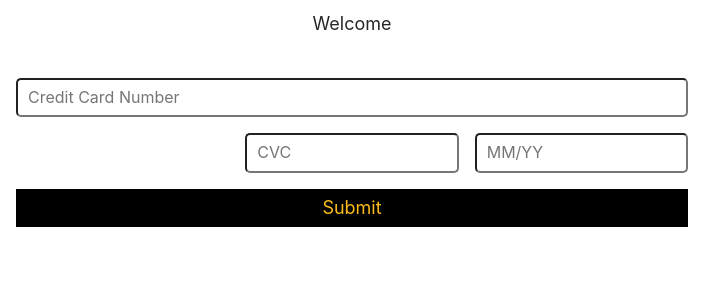
Scenario: <RegistionForm /> Component › should show error messages when submitting a invaild form
The image size is (705, 288).
Click the button "Submit" at (352, 208), box x1=16 y1=189 x2=688 y2=227
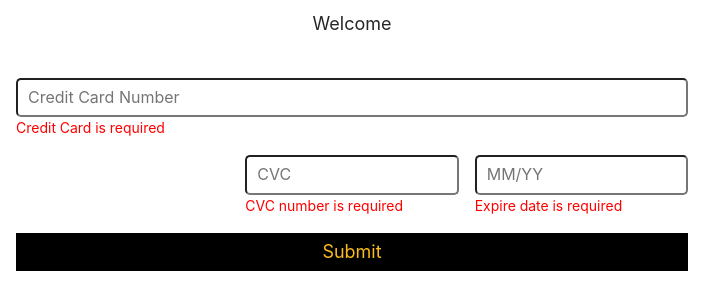
Now the text "Credit Card is required" is shown, box x1=16 y1=119 x2=165 y2=136
Now the text "CVC number is required" is shown, box x1=245 y1=197 x2=403 y2=214
Now the text "Expire date is required" is shown, box x1=475 y1=197 x2=622 y2=214
